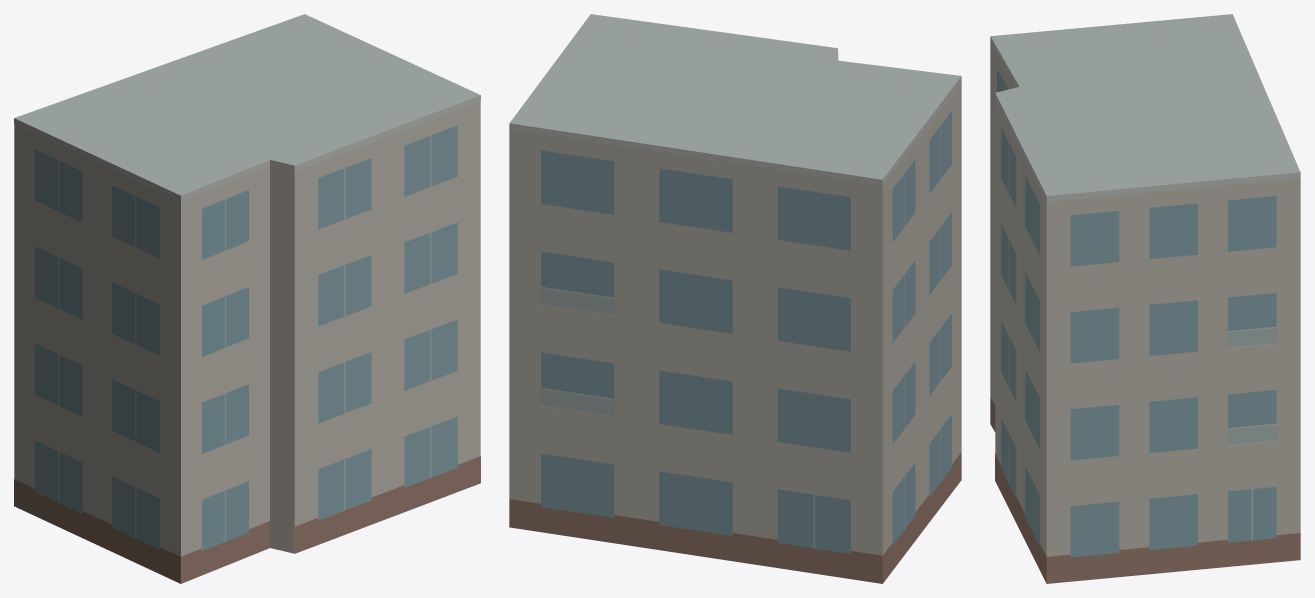
Rendered from survey-upis-32486253.glb.
3 views of the same model, side by side, from view 1: azimuth 30°, elevation 25°; view 2: azimuth 150°, elevation 25°; view 3: azimuth 270°, elevation 25° (orthographic). The views are drawn at different scales.
Parts seen in each view (by area): view 1: survey-upis-32486253.tmp; view 2: survey-upis-32486253.tmp; view 3: survey-upis-32486253.tmp.
Part boxes in pixels (<box>): survey-upis-32486253.tmp: <box>14,14,480,583</box>; survey-upis-32486253.tmp: <box>509,14,961,583</box>; survey-upis-32486253.tmp: <box>990,14,1300,583</box>.
Size of the model in its own units: 16.22 by 16.1 by 11.68.
